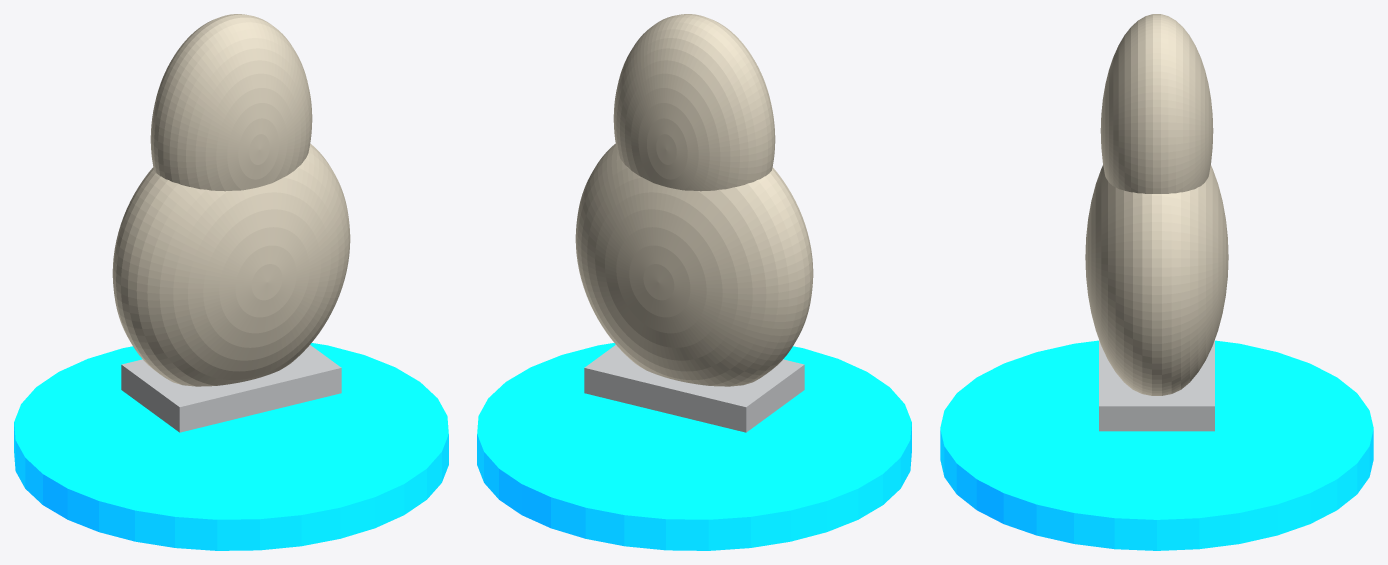
Rendered from french_dress_form.glb.
The picture shows the model from 3 angles, left to right: view 1: azimuth 30°, elevation 25°; view 2: azimuth 150°, elevation 25°; view 3: azimuth 270°, elevation 25°; orthographic projection.
Parts seen in each view (by area): view 1: 10_17_Popular_French_Dress_Form_ROOT_base, 10_17_Popular_French_Dress_Form_part_02, 10_17_Popular_French_Dress_Form_part_01, 10_17_Popular_French_Dress_Form_part_04; view 2: 10_17_Popular_French_Dress_Form_ROOT_base, 10_17_Popular_French_Dress_Form_part_02, 10_17_Popular_French_Dress_Form_part_01, 10_17_Popular_French_Dress_Form_part_04; view 3: 10_17_Popular_French_Dress_Form_ROOT_base, 10_17_Popular_French_Dress_Form_part_02, 10_17_Popular_French_Dress_Form_part_01, 10_17_Popular_French_Dress_Form_part_04.
Part boxes in pixels (x1,y1,x2,y2): 10_17_Popular_French_Dress_Form_ROOT_base: (14, 343, 448, 550); 10_17_Popular_French_Dress_Form_part_02: (112, 144, 350, 386); 10_17_Popular_French_Dress_Form_part_01: (150, 14, 312, 191); 10_17_Popular_French_Dress_Form_part_04: (121, 345, 341, 432); 10_17_Popular_French_Dress_Form_ROOT_base: (477, 343, 911, 550); 10_17_Popular_French_Dress_Form_part_02: (575, 144, 813, 386); 10_17_Popular_French_Dress_Form_part_01: (613, 14, 775, 191); 10_17_Popular_French_Dress_Form_part_04: (584, 345, 804, 432); 10_17_Popular_French_Dress_Form_ROOT_base: (940, 340, 1373, 550); 10_17_Popular_French_Dress_Form_part_02: (1085, 165, 1228, 395); 10_17_Popular_French_Dress_Form_part_01: (1100, 14, 1213, 193); 10_17_Popular_French_Dress_Form_part_04: (1099, 340, 1214, 431).
Size of the model in its own units: 0.76 by 0.85 by 0.76.
